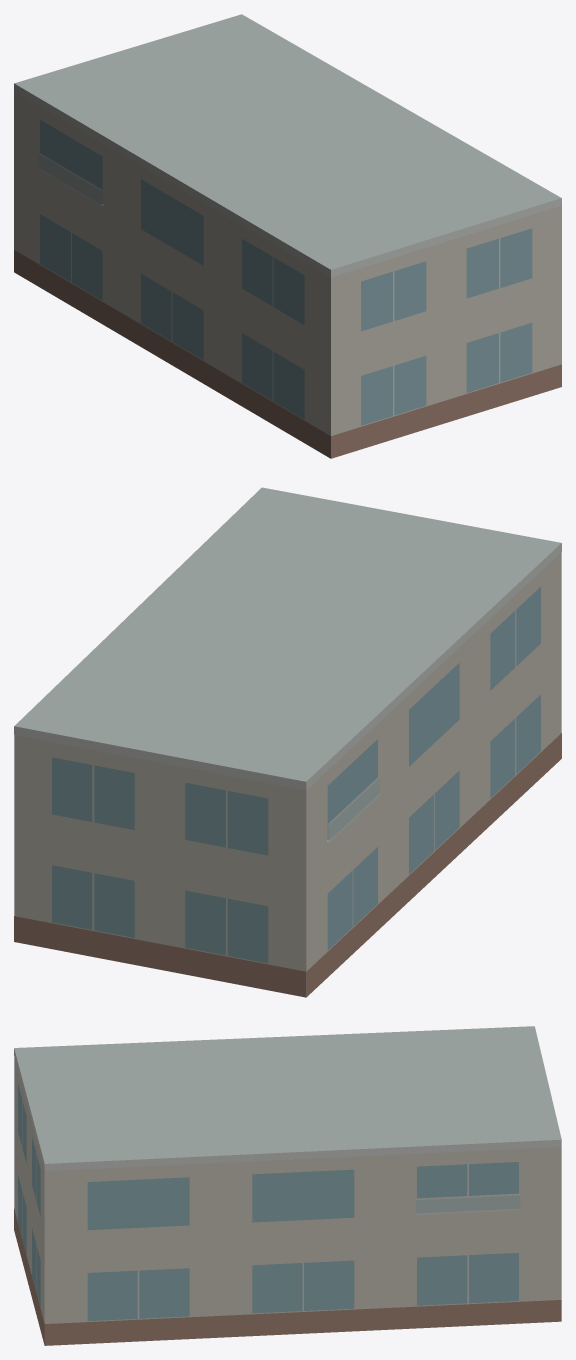
The model's file is survey-upis-32628896.glb.
3 renders of one model, top to bottom at view 1: azimuth 30°, elevation 25°; view 2: azimuth 150°, elevation 25°; view 3: azimuth 270°, elevation 25°, orthographic. The views are drawn at different scales.
Parts seen in each view (by area): view 1: survey-upis-32628896.tmp; view 2: survey-upis-32628896.tmp; view 3: survey-upis-32628896.tmp.
Part boxes in pixels (left/top/right/bottom): survey-upis-32628896.tmp: left=14, top=14, right=561, bottom=458; survey-upis-32628896.tmp: left=14, top=487, right=561, bottom=997; survey-upis-32628896.tmp: left=14, top=1026, right=561, bottom=1345.
Size of the model in its own units: 9.93 by 6.1 by 16.66.
